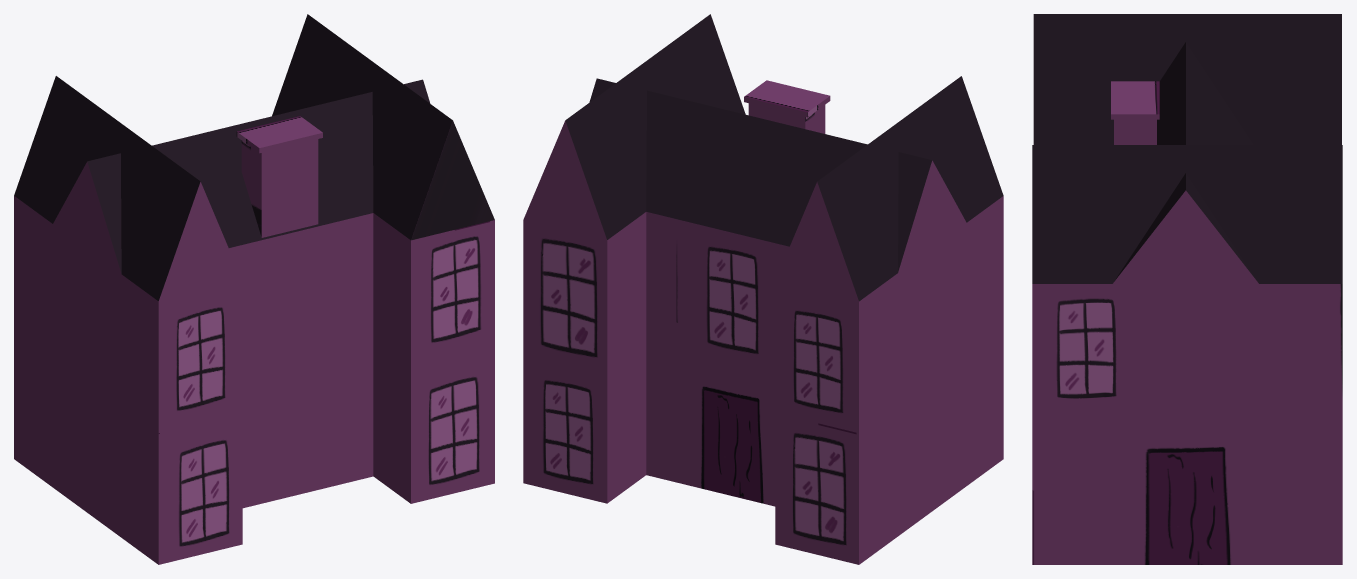
The model's file is House_5.fbx.
The picture shows the model from 3 angles, left to right: view 1: azimuth 30°, elevation 25°; view 2: azimuth 150°, elevation 25°; view 3: azimuth 270°, elevation 25°; orthographic projection. The views are drawn at different scales.
Visible parts, largest first — view 1: Cube; view 2: Cube; view 3: Cube.
Boxes of the visible parts, x1,y1,x2,y2 form: Cube: [14, 14, 494, 564]; Cube: [523, 14, 1003, 564]; Cube: [1032, 14, 1342, 564].
Bounding box in the file's own units: 800 × 850 × 600.
